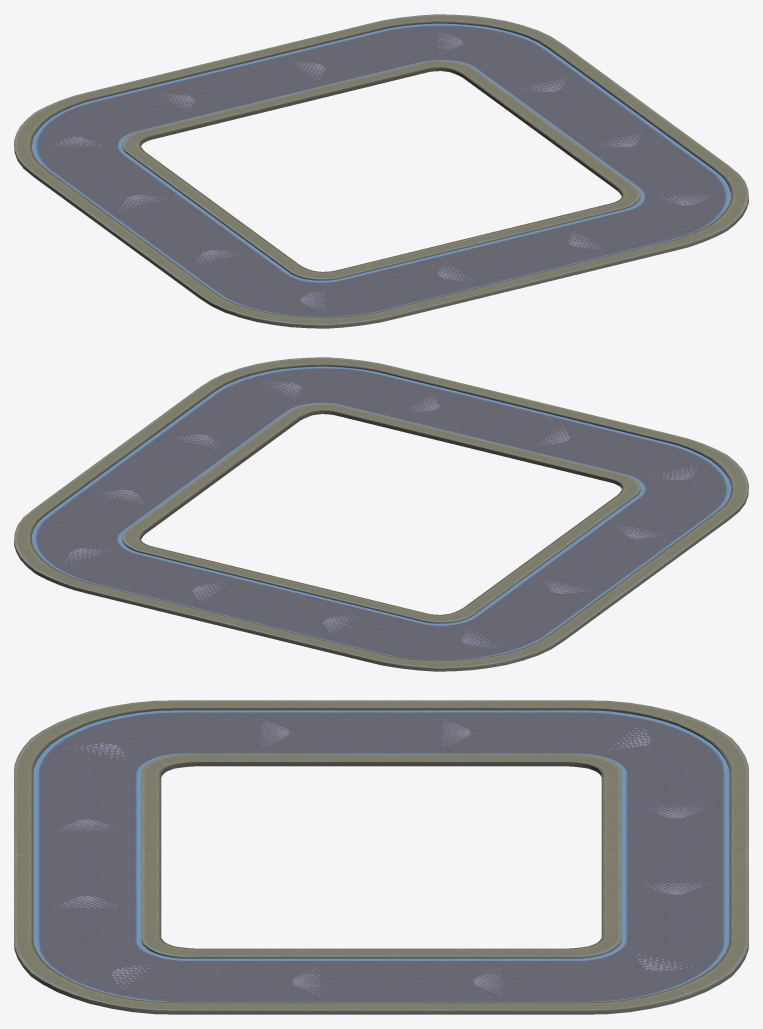
Rendered from pref_sm_garden_line07_lv2.fbx.
The picture shows the model from 3 angles, top to bottom: view 1: azimuth 30°, elevation 25°; view 2: azimuth 150°, elevation 25°; view 3: azimuth 270°, elevation 25°; orthographic projection. The views are drawn at different scales.
Visible parts, largest first — view 1: sm_garden_line07a_lv2, sm_garden_line07_lv2; view 2: sm_garden_line07a_lv2, sm_garden_line07_lv2; view 3: sm_garden_line07a_lv2, sm_garden_line07_lv2.
Part boxes in pixels (x1,y1,x2,y2): sm_garden_line07a_lv2: [32, 23, 730, 317]; sm_garden_line07_lv2: [14, 14, 748, 328]; sm_garden_line07a_lv2: [32, 366, 730, 660]; sm_garden_line07_lv2: [14, 357, 748, 671]; sm_garden_line07a_lv2: [33, 710, 729, 1002]; sm_garden_line07_lv2: [14, 700, 748, 1014].
Size of the model in its own units: 19.83 by 0.1191 by 19.83.
